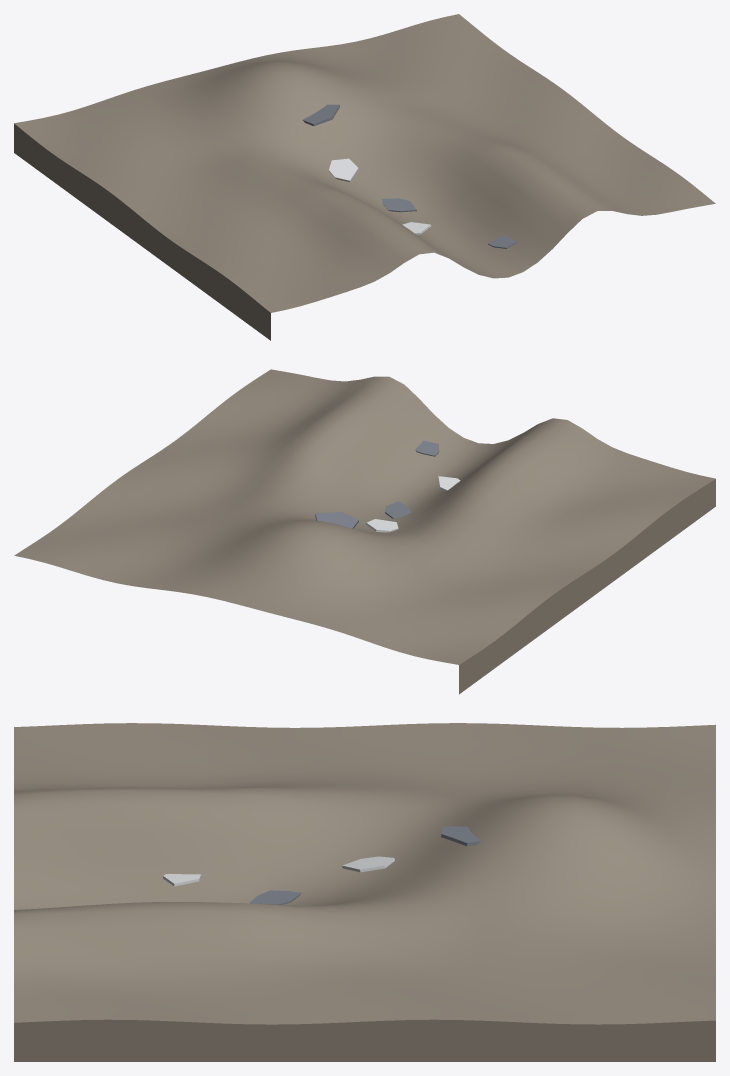
File: ufo-crash-site-and-recovery-facility-crash-furrow-tile-29905f0f__17335.glb
The picture shows the model from 3 angles, top to bottom: view 1: azimuth 30°, elevation 25°; view 2: azimuth 150°, elevation 25°; view 3: azimuth 270°, elevation 25°; orthographic projection. The views are drawn at different scales.
Visible parts, largest first — view 1: crash-furrow-tile-end; view 2: crash-furrow-tile-end; view 3: crash-furrow-tile-end.
Part boxes in pixels (x1=…): crash-furrow-tile-end: x1=14, y1=14, x2=715, y2=340; crash-furrow-tile-end: x1=14, y1=369, x2=715, y2=694; crash-furrow-tile-end: x1=14, y1=723, x2=715, y2=1061.
Size of the model in its own units: 8 by 1.24 by 8.
